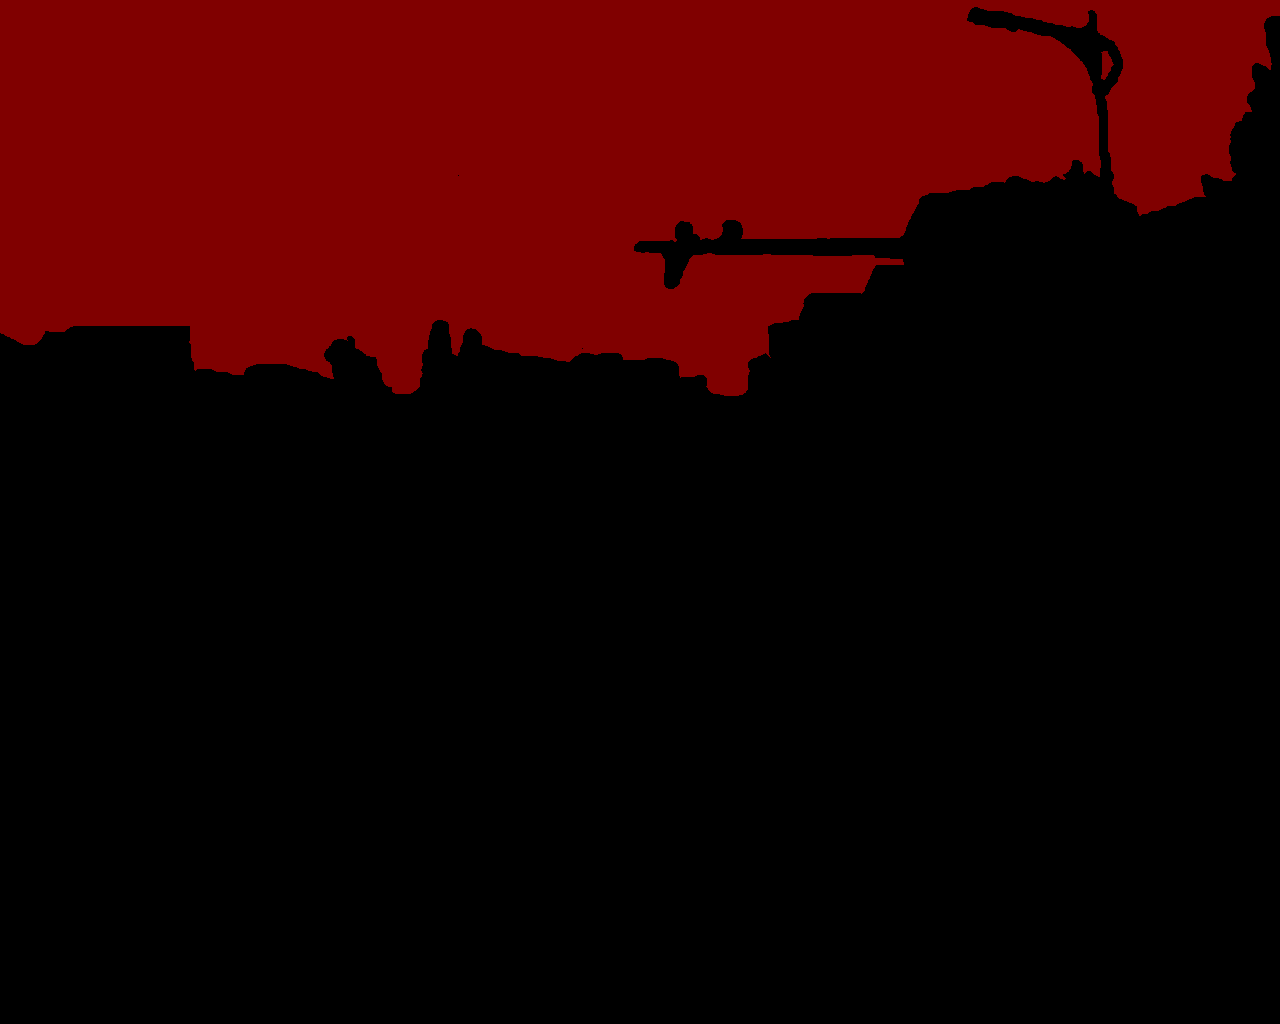Sky: (1, 1, 1279, 396)
